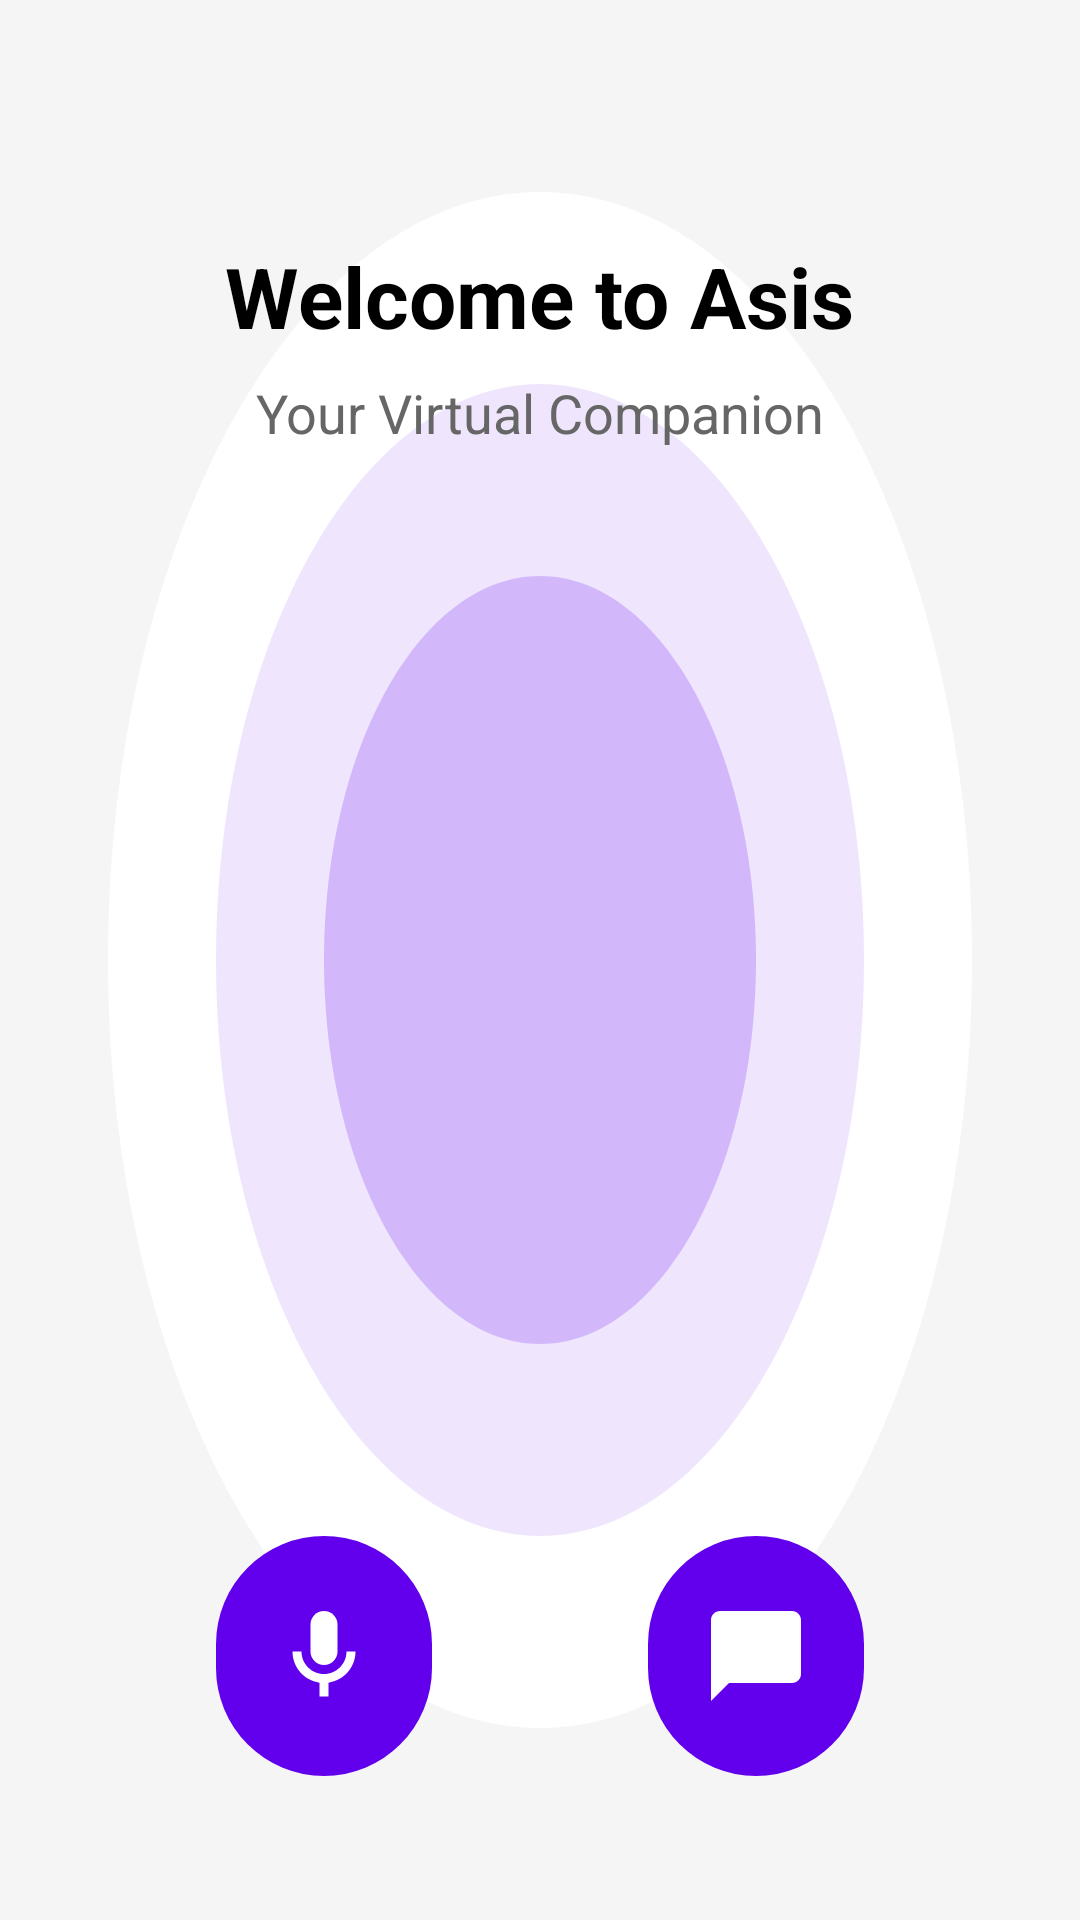

Locate icon controls on the screen. Image size 1080w x 1920h, boxes as (x1, y1, x2, y2).
Chat interaction button: (648, 1536, 864, 1776)
Voice interaction button: (216, 1536, 432, 1776)
